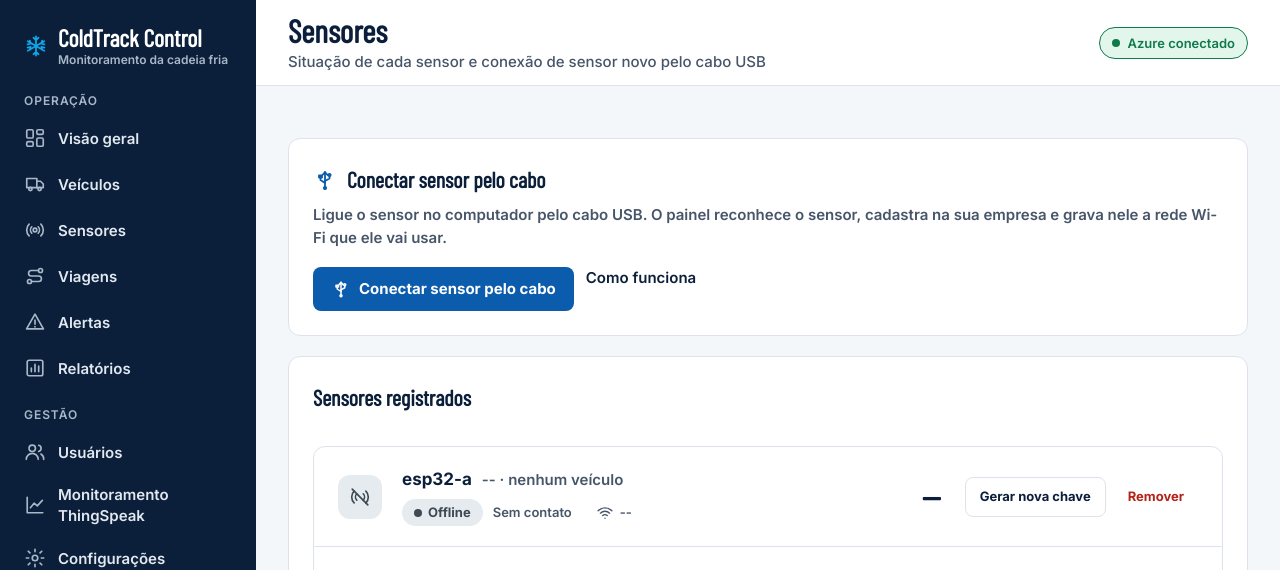
Test case: Sensores - conectar pelo cabo › sensor novo: pede descrição e rede; sem nome de rede e senha curta são recusados
This screenshot has width=1280, height=570.
Click the button "Conectar sensor pelo cabo": (443, 289) [313, 267, 574, 311]
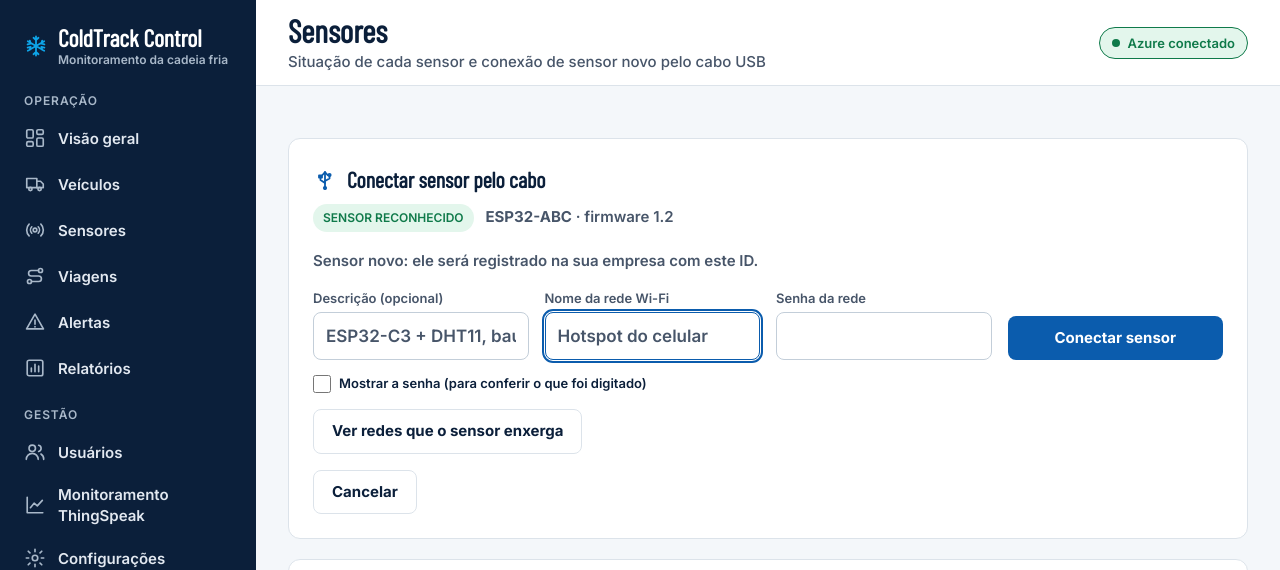
Expected: the text "SENSOR RECONHECIDO" is shown, [313, 204, 474, 232]
Expected: the text "Sensor novo: ele será registrado na sua empresa com este ID." is shown, [313, 251, 758, 270]
Submit the form with id "formCabo", box [313, 289, 1223, 360]
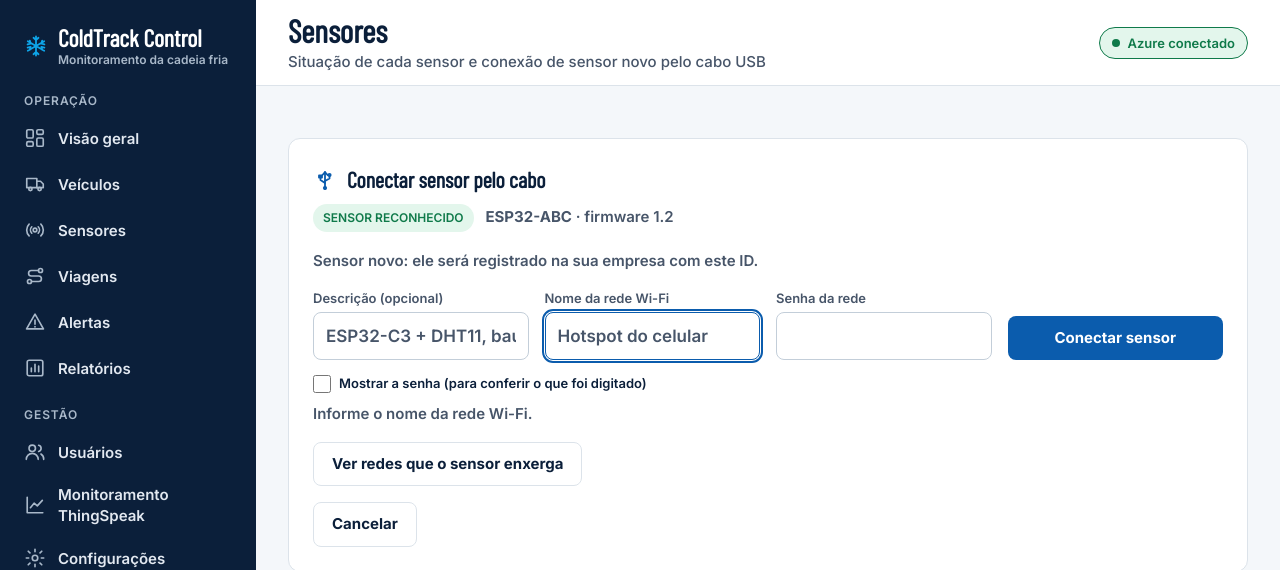
Expected: the text "Informe o nome da rede Wi-Fi." is shown, [313, 404, 533, 423]
In the field labelled "Nome da rede Wi-Fi": (652, 336) [544, 312, 760, 360], type "Hotspot"
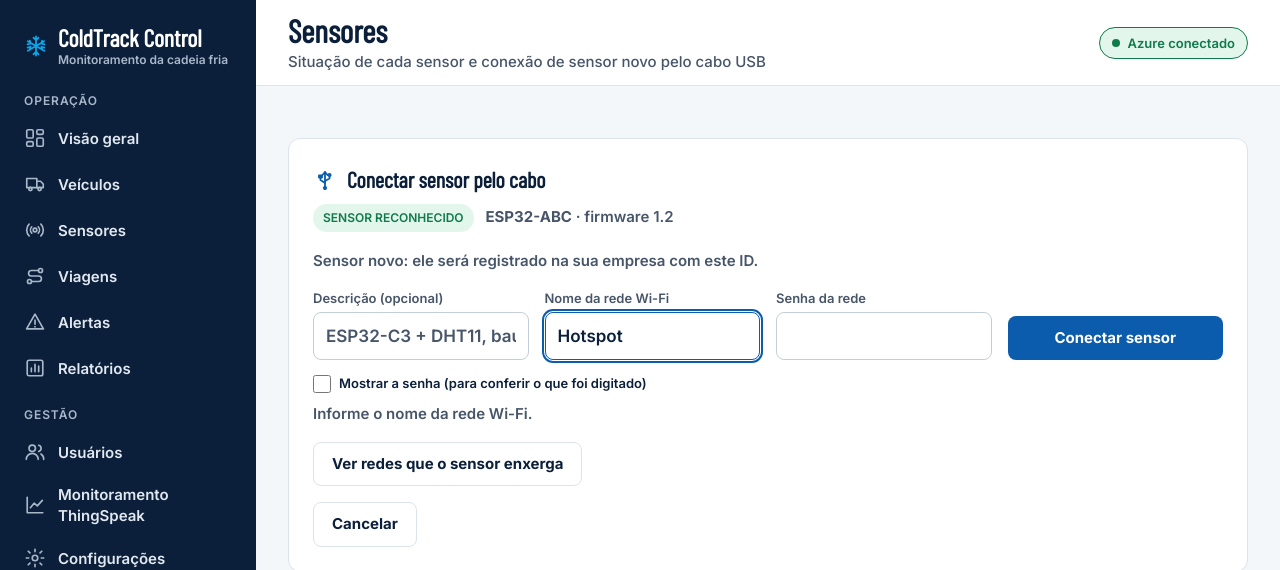
In the password field labelled "Senha da rede": (884, 336) [776, 312, 992, 360], type "123"
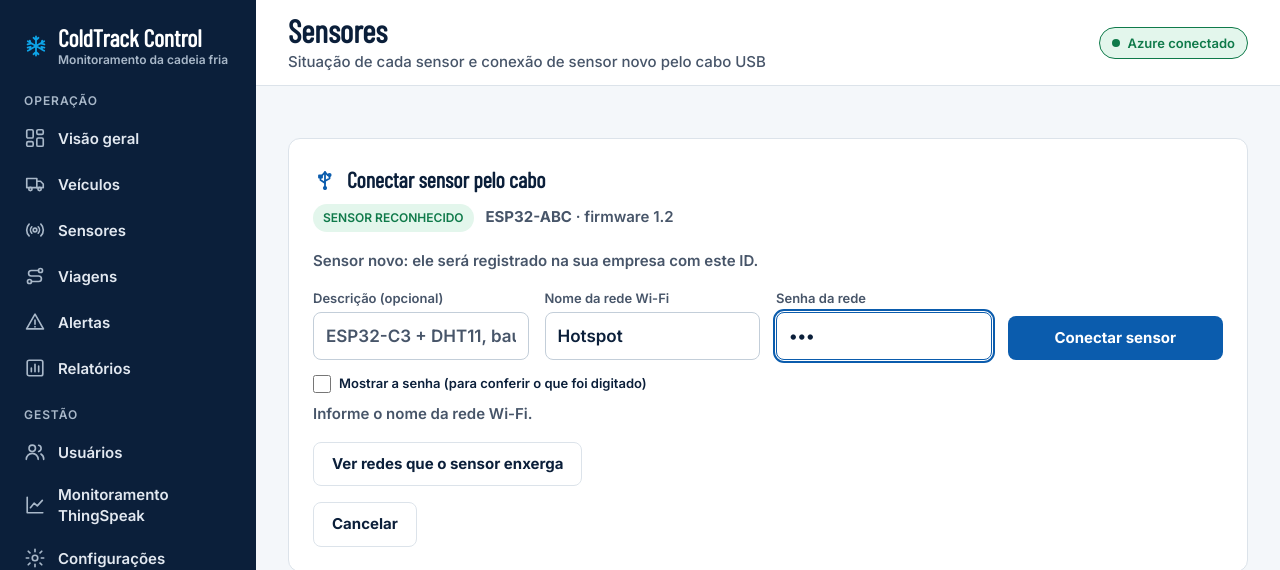
Submit the form with id "formCabo", box [313, 289, 1223, 360]
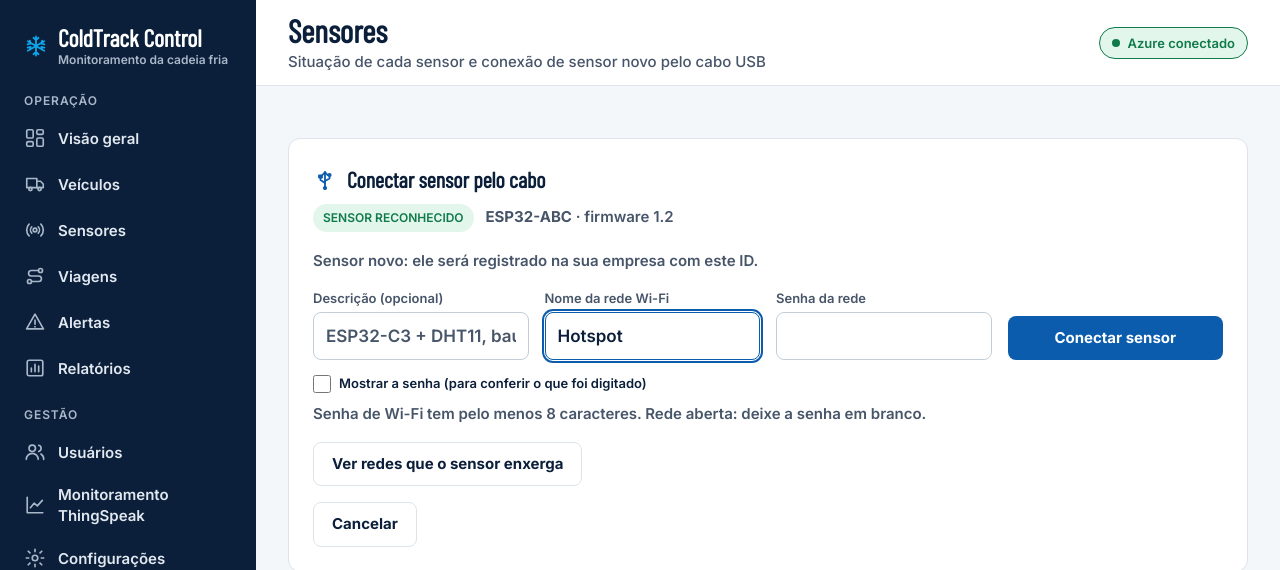
Expected: the text "Senha de Wi-Fi tem pelo menos 8 caracteres" is shown, [313, 404, 926, 423]
